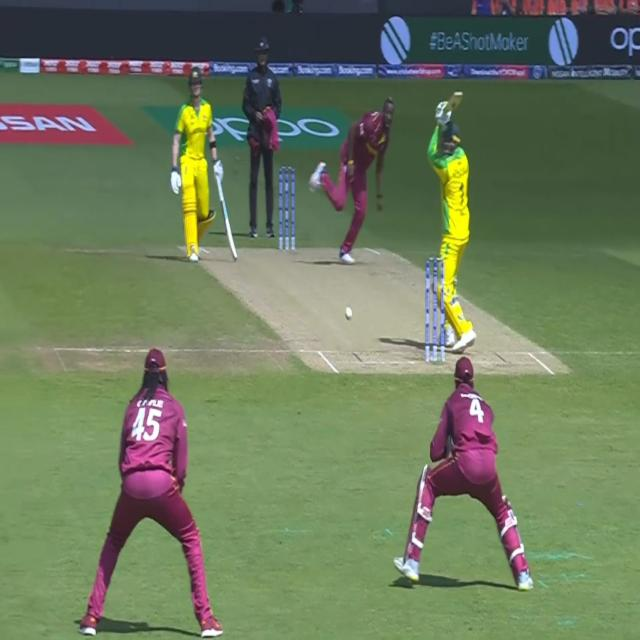ball: (343, 301, 356, 323)
